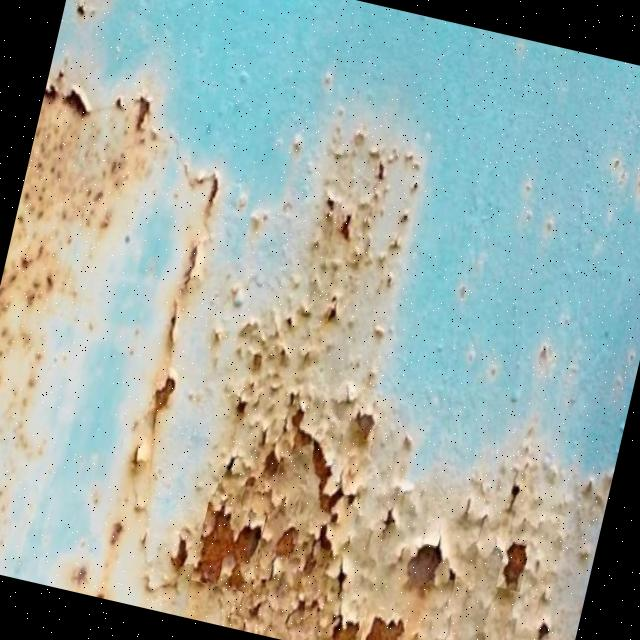Corrosion: (0, 36, 640, 640), (497, 538, 530, 591)
